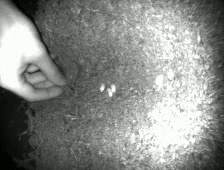corn: (152, 72, 166, 86), (107, 81, 119, 94), (96, 80, 107, 94), (104, 86, 114, 98)
